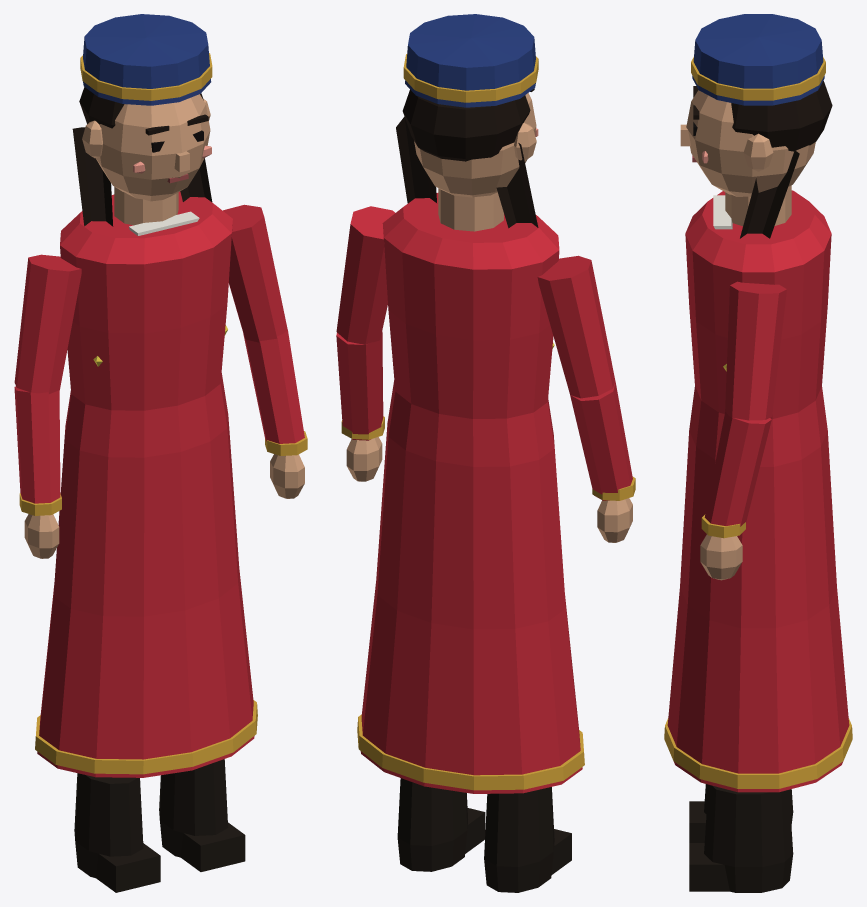
The model's file is Child_Girl.obj.
The picture shows the model from 3 angles, left to right: view 1: azimuth 30°, elevation 25°; view 2: azimuth 150°, elevation 25°; view 3: azimuth 270°, elevation 25°; orthographic projection. The views are drawn at different scales.
Parts seen in each view (by area): view 1: Child_Girl; view 2: Child_Girl; view 3: Child_Girl.
Boxes of the visible parts, x1,y1,x2,y2 form: Child_Girl: (14, 14, 307, 892); Child_Girl: (336, 14, 635, 892); Child_Girl: (664, 14, 852, 892).
Bounding box in the file's own units: 0.4422 × 1.21 × 0.2522.
